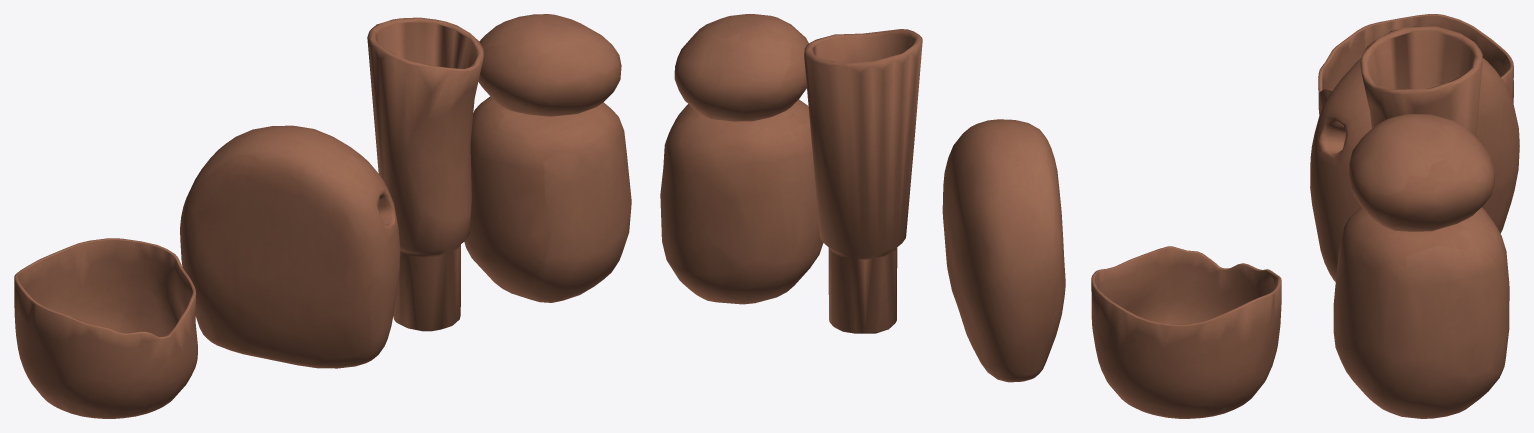
3 renders of one model, left to right at view 1: azimuth 30°, elevation 25°; view 2: azimuth 150°, elevation 25°; view 3: azimuth 270°, elevation 25°, orthographic. The views are drawn at different scales.
Parts seen in each view (by area): view 1: Cube.001, Cube.003, Cylinder, Cube.002; view 2: Cube.003, Cube.002, Cylinder, Cube.001; view 3: Cube.003, Cube.001, Cube.002, Cylinder.
Boxes of the visible parts, x1,y1,x2,y2 form: Cube.001: (180,125,400,368); Cube.003: (464,14,631,302); Cylinder: (14,238,197,418); Cube.002: (367,17,484,331); Cube.003: (660,14,823,304); Cube.002: (804,29,922,333); Cylinder: (1091,246,1281,418); Cube.001: (942,119,1065,382); Cube.003: (1333,114,1509,418); Cube.001: (1310,58,1519,281); Cube.002: (1360,26,1482,136); Cylinder: (1318,14,1513,115).
Size of the model in its own units: 0.7413 by 0.3389 by 0.2198.
1 material, 1 textured.
